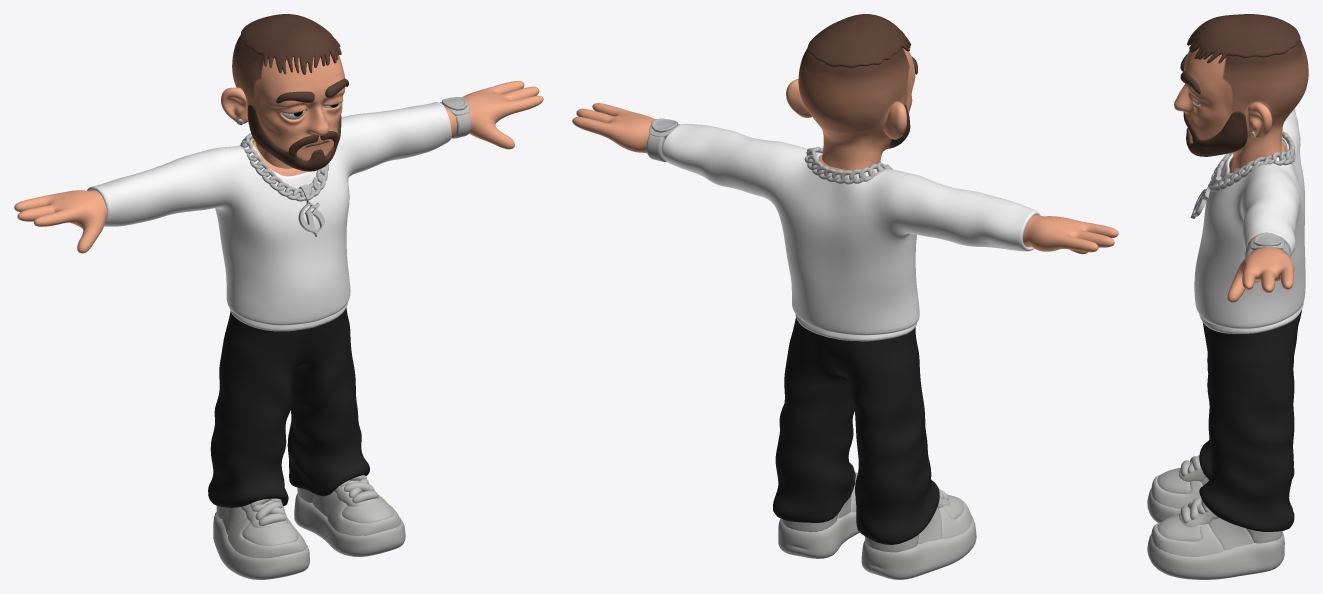
The model's file is gue3.fbx.
3 renders of one model, left to right at view 1: azimuth 30°, elevation 25°; view 2: azimuth 150°, elevation 25°; view 3: azimuth 270°, elevation 25°, orthographic. The views are drawn at different scales.
Visible parts, largest first — view 1: gue_005, gue_008; view 2: gue_005, gue_008; view 3: gue_005, gue_008.
Part boxes in pixels (x1=…): gue_005: x1=14, y1=14, x2=543, y2=579; gue_008: x1=237, y1=97, x2=471, y2=236; gue_005: x1=572, y1=14, x2=1118, y2=579; gue_008: x1=646, y1=118, x2=902, y2=184; gue_005: x1=1147, y1=14, x2=1308, y2=579; gue_008: x1=1190, y1=130, x2=1295, y2=258.
Bounding box in the file's own units: 146 × 138 × 38.65.
2 materials, 1 textured.
